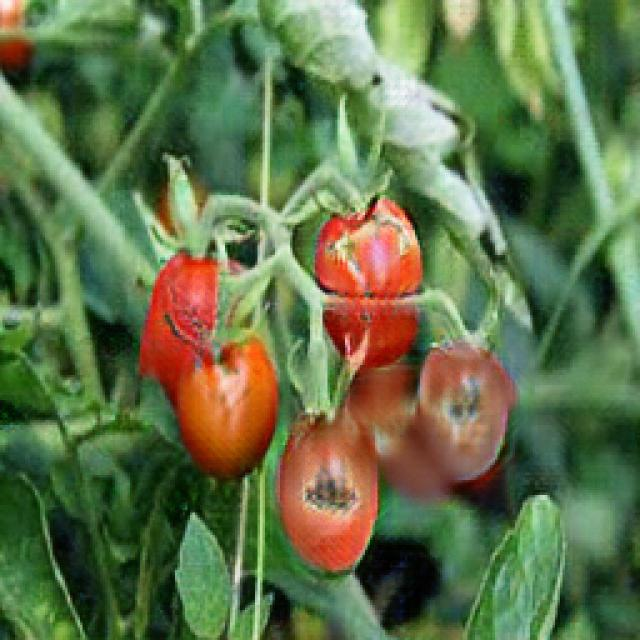overripe tomato: (313, 204, 426, 365), (279, 402, 377, 580), (418, 320, 509, 483)
